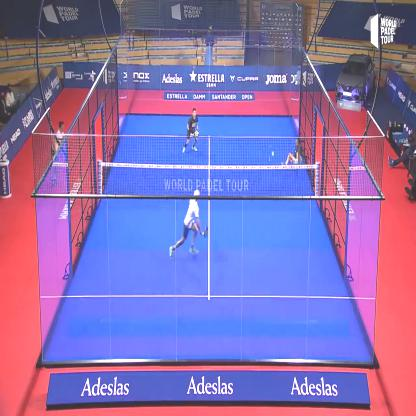ball: (269, 146, 277, 162)
